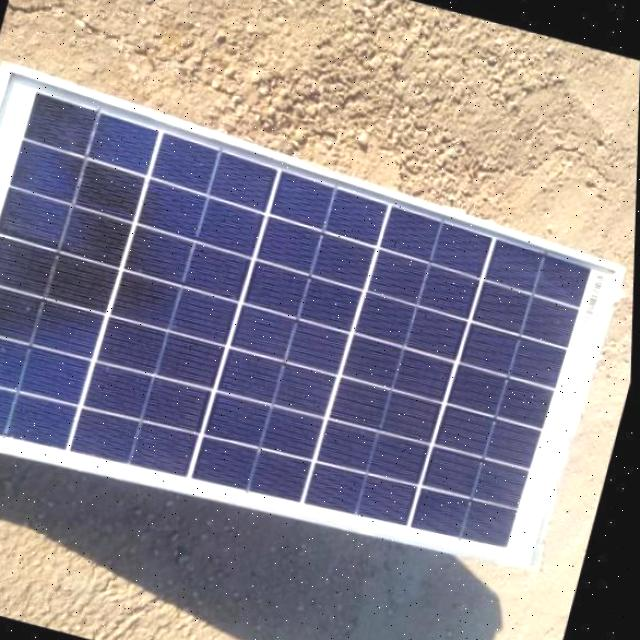Normal Solar Panel: (1, 60, 636, 594)
